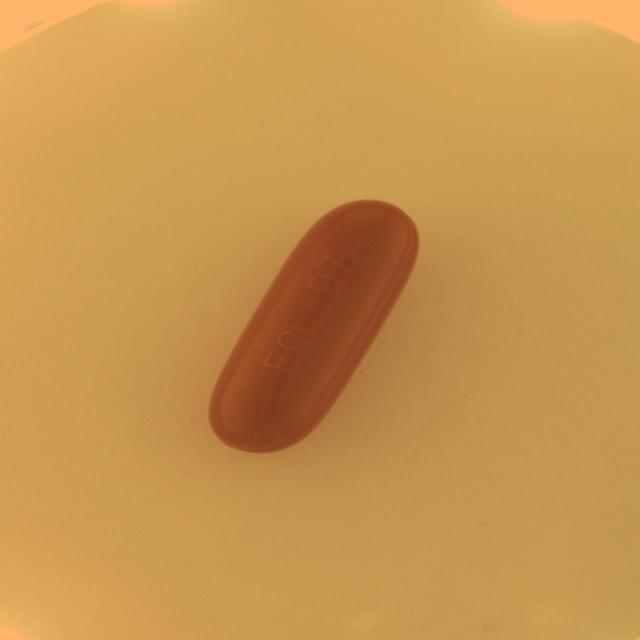Oval: (201, 197, 422, 456)
